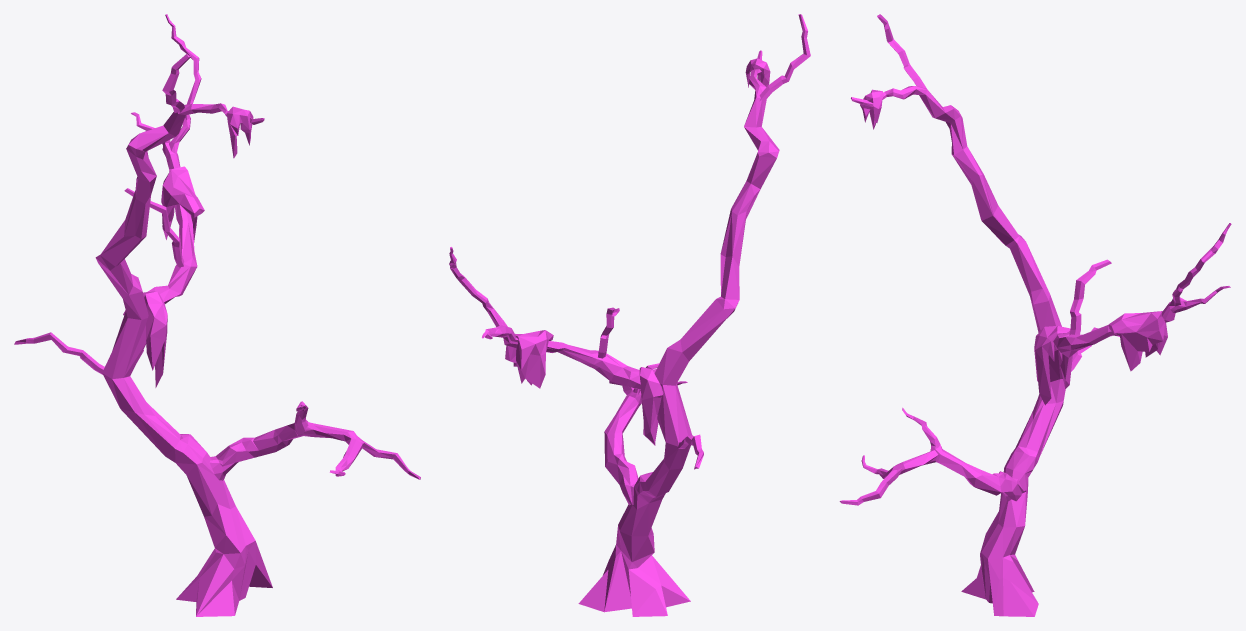
File: SM_Tree_Swamp_D_Fantasy.fbx
3 views of the same model, side by side, from view 1: azimuth 30°, elevation 25°; view 2: azimuth 150°, elevation 25°; view 3: azimuth 270°, elevation 25° (orthographic). The views are drawn at different scales.
Visible parts, largest first — view 1: SM_Tree_Swamp_D_Fantasy; view 2: SM_Tree_Swamp_D_Fantasy; view 3: SM_Tree_Swamp_D_Fantasy.
Boxes of the visible parts, x1,y1,x2,y2 form: SM_Tree_Swamp_D_Fantasy: (14, 14, 420, 616); SM_Tree_Swamp_D_Fantasy: (449, 14, 810, 616); SM_Tree_Swamp_D_Fantasy: (839, 14, 1231, 616).
Size of the model in its own units: 3.26 by 7.97 by 5.27.
